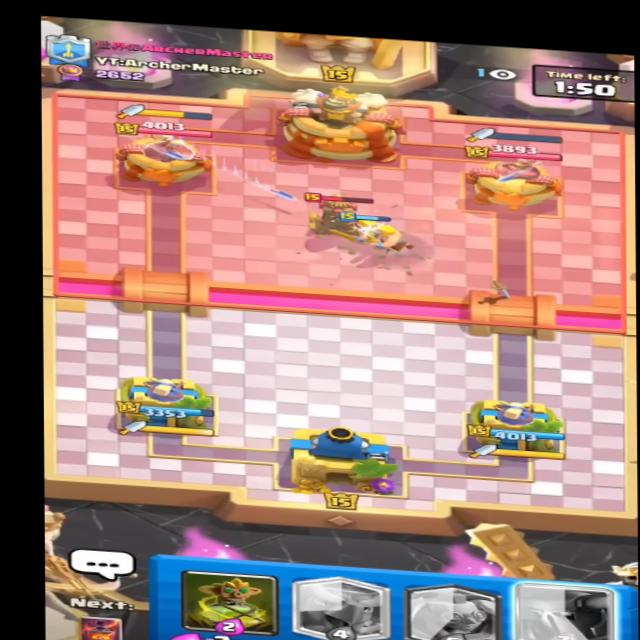Tesla: (297, 190, 379, 245)
